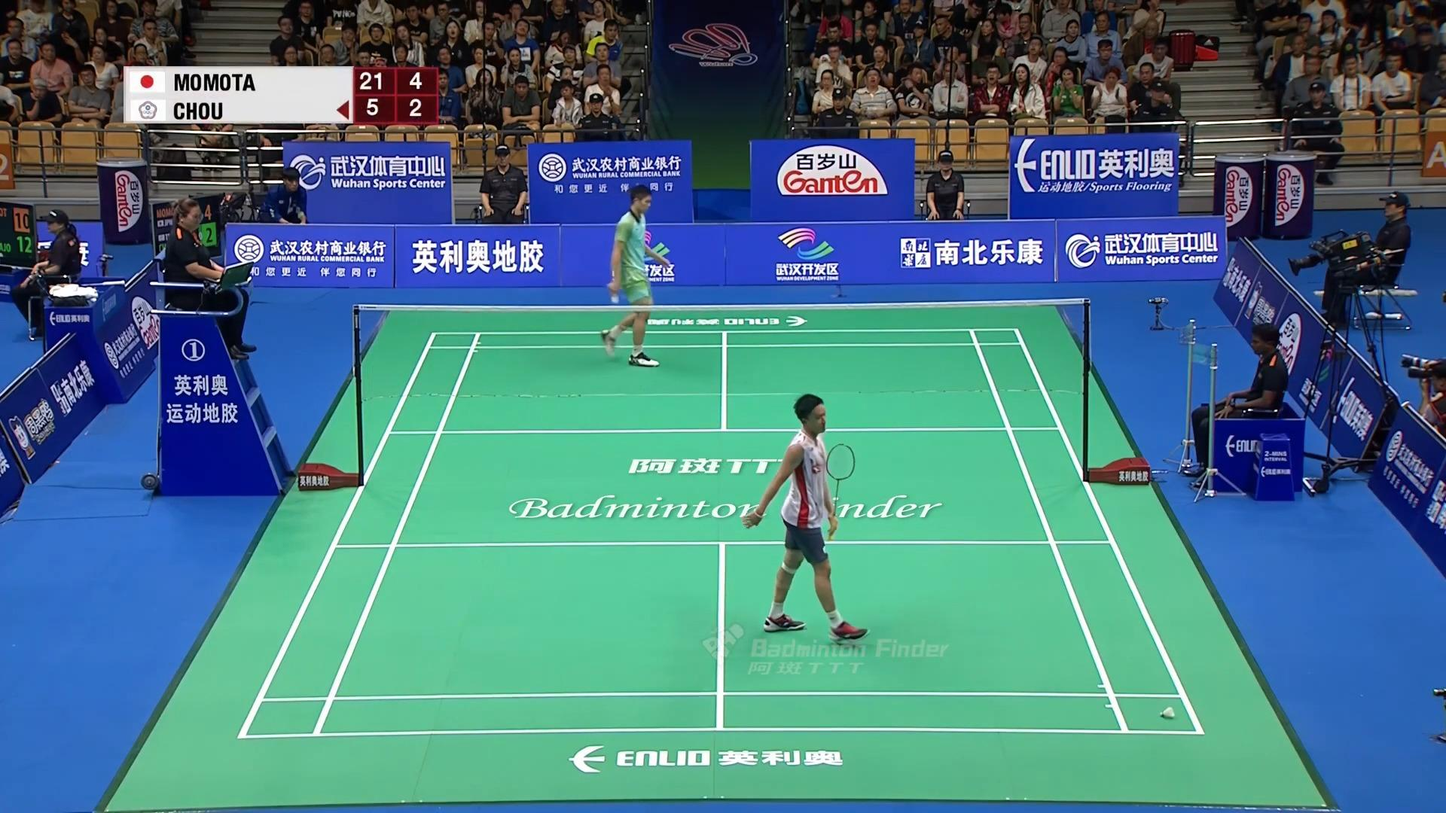shuttlecock: (1160, 707, 1175, 719)
